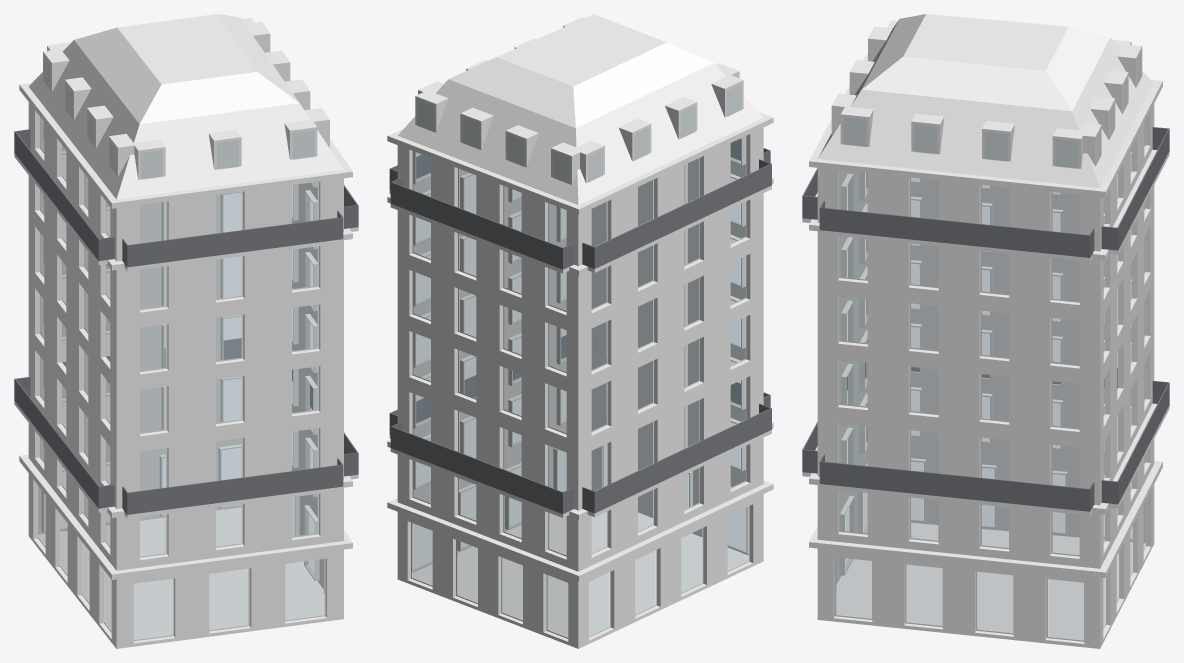
Rendered from 8_rue_pasquier.glb.
The picture shows the model from 3 angles, left to right: view 1: azimuth 30°, elevation 25°; view 2: azimuth 150°, elevation 25°; view 3: azimuth 270°, elevation 25°; orthographic projection. The views are drawn at different scales.
Parts seen in each view (by area): view 1: 8 rue Pasquier 75008 Paris; view 2: 8 rue Pasquier 75008 Paris; view 3: 8 rue Pasquier 75008 Paris.
Part boxes in pixels (x1,y1,x2,y2): 8 rue Pasquier 75008 Paris: [14, 14, 358, 648]; 8 rue Pasquier 75008 Paris: [387, 14, 773, 648]; 8 rue Pasquier 75008 Paris: [802, 14, 1169, 648].
Size of the model in its own units: 13.75 by 24.3 by 14.96.
